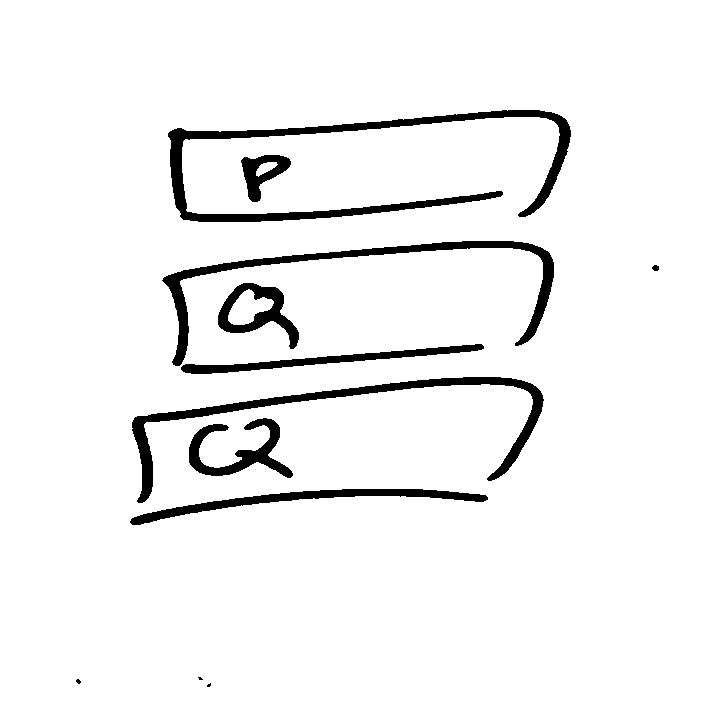paragraph: (164, 108, 578, 230)
search bar: (110, 371, 551, 526), (162, 238, 560, 372)
